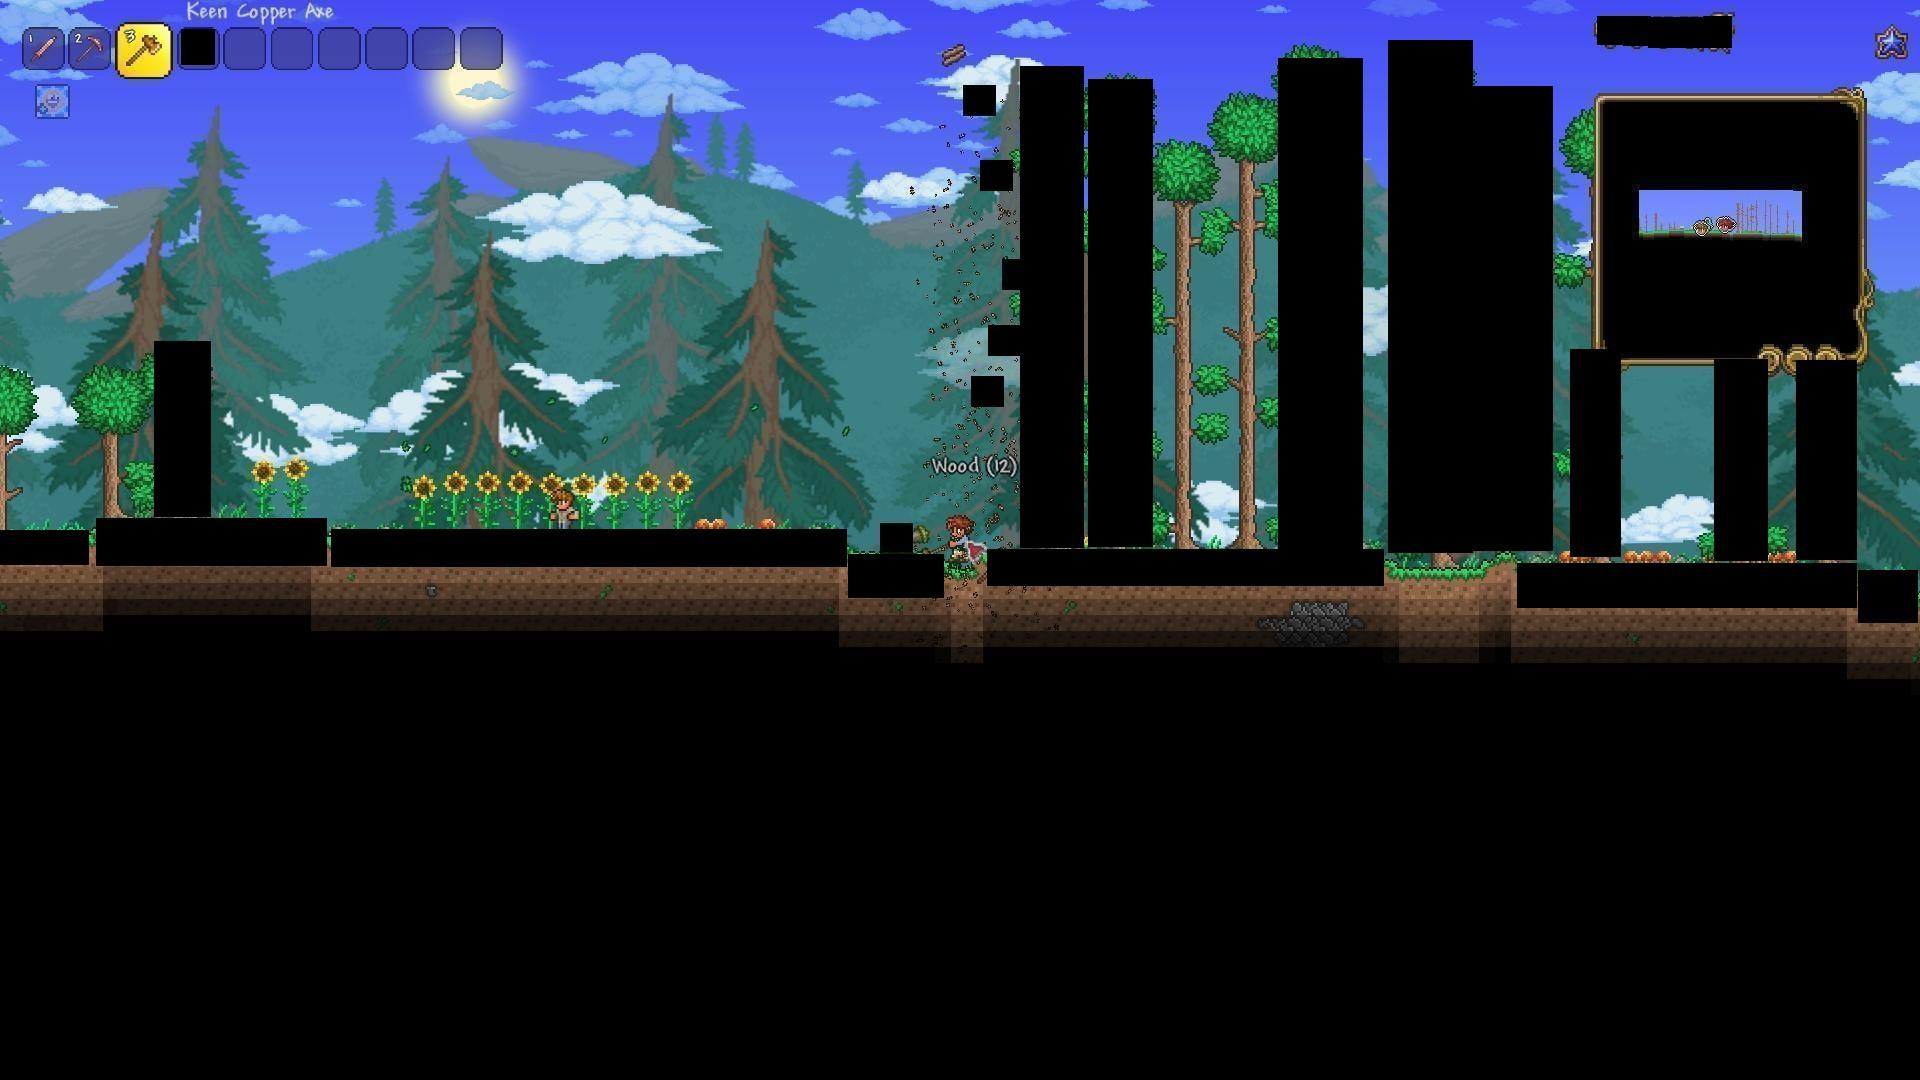dirt: (1385, 556, 1516, 597)
tree: (1216, 87, 1278, 549), (1150, 128, 1216, 547), (76, 365, 142, 516), (0, 361, 26, 527)
wood: (936, 40, 968, 69)
